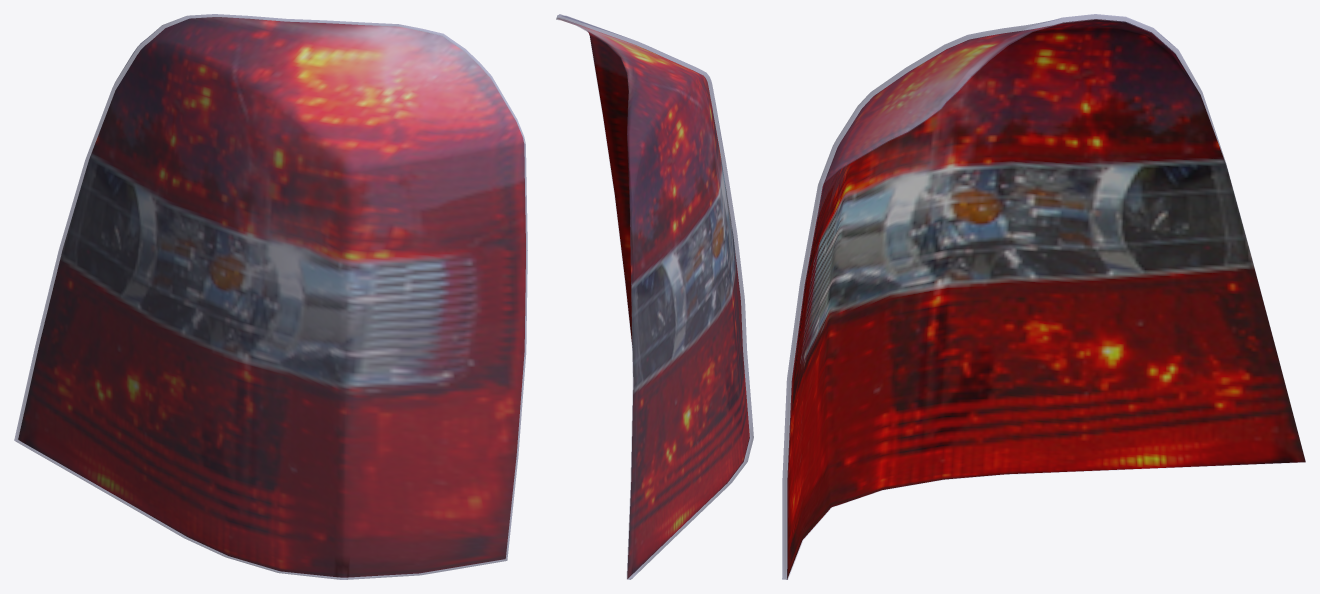
3 renders of one model, left to right at view 1: azimuth 30°, elevation 25°; view 2: azimuth 150°, elevation 25°; view 3: azimuth 270°, elevation 25°, orthographic. The views are drawn at different scales.
Visible parts, largest first — view 1: Y651_541C_R_Y651_541C_R_2_DTaSI, Y651_541C_R_1_N_Y651_541C_R; view 2: Y651_541C_R_1_N_Y651_541C_R, Y651_541C_R_Y651_541C_R_2_DTaSI; view 3: Y651_541C_R_1_N_Y651_541C_R, Y651_541C_R_Y651_541C_R_2_DTaSI.
Boxes of the visible parts, x1=… form: Y651_541C_R_Y651_541C_R_2_DTaSI: x1=14, y1=14, x2=527, y2=579; Y651_541C_R_1_N_Y651_541C_R: x1=18, y1=17, x2=525, y2=577; Y651_541C_R_1_N_Y651_541C_R: x1=557, y1=18, x2=749, y2=578; Y651_541C_R_Y651_541C_R_2_DTaSI: x1=556, y1=14, x2=753, y2=579; Y651_541C_R_1_N_Y651_541C_R: x1=787, y1=19, x2=1305, y2=579; Y651_541C_R_Y651_541C_R_2_DTaSI: x1=782, y1=14, x2=1305, y2=579.
Size of the model in its own units: 22.41 by 37.13 by 34.84.
